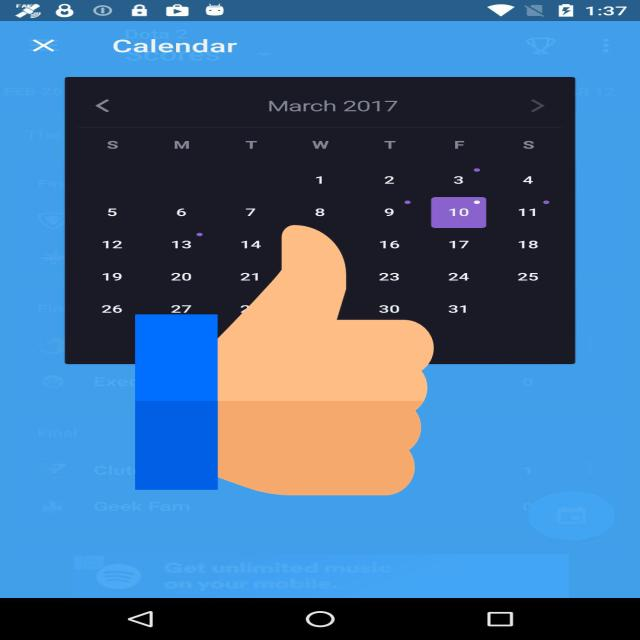privacy zuckering: (135, 218, 434, 502)
